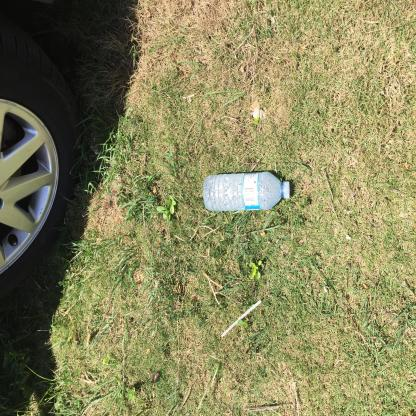trash: (150, 266, 187, 394), (58, 292, 88, 352)
